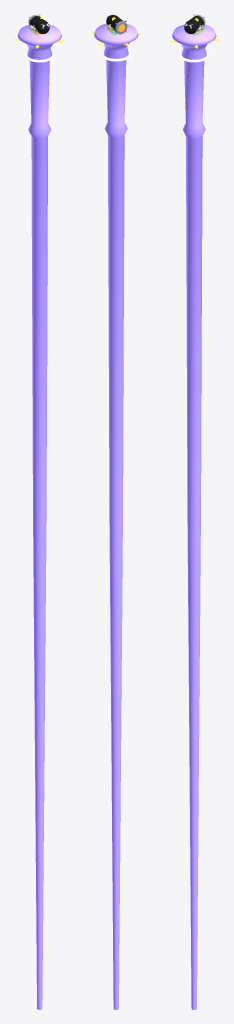
The model's file is props.glb.
The picture shows the model from 3 angles, left to right: view 1: azimuth 30°, elevation 25°; view 2: azimuth 210°, elevation 25°; view 3: azimuth 330°, elevation 25°; orthographic projection.
Visible parts, largest first — view 1: SupportCol, BulletBody; view 2: SupportCol; view 3: SupportCol, BulletBody.
Boxes of the visible parts, x1,y1,x2,y2 form: SupportCol: (17,24,61,1009); BulletBody: (30,16,49,33); SupportCol: (94,23,138,1009); SupportCol: (172,24,216,1009); BulletBody: (184,16,203,33).
Bounding box in the file's own units: 3.71 × 81.13 × 3.61.
Materials: 33 (1 with a texture image).
